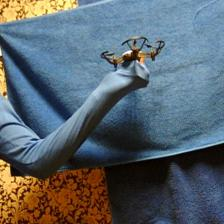drone: (100, 31, 165, 70)
